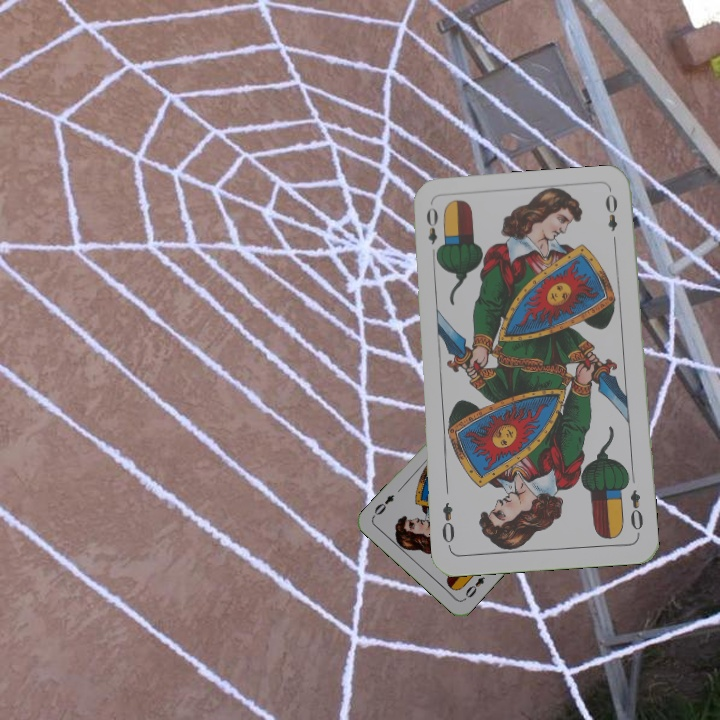EO: (422, 203, 444, 261), (626, 486, 646, 538), (460, 572, 487, 603)
